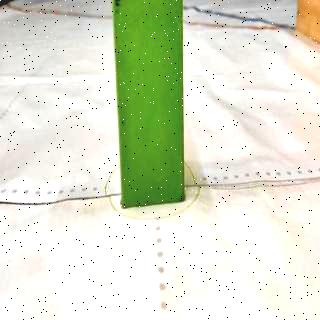greenbox: (114, 0, 186, 207)
